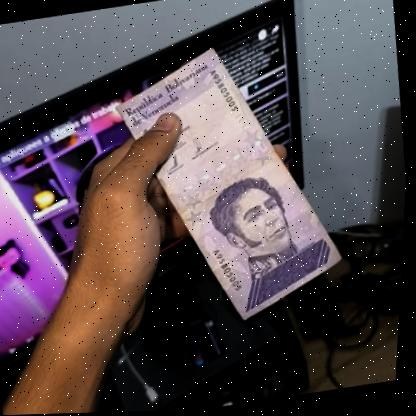ten-front-vef: (100, 30, 360, 340)
